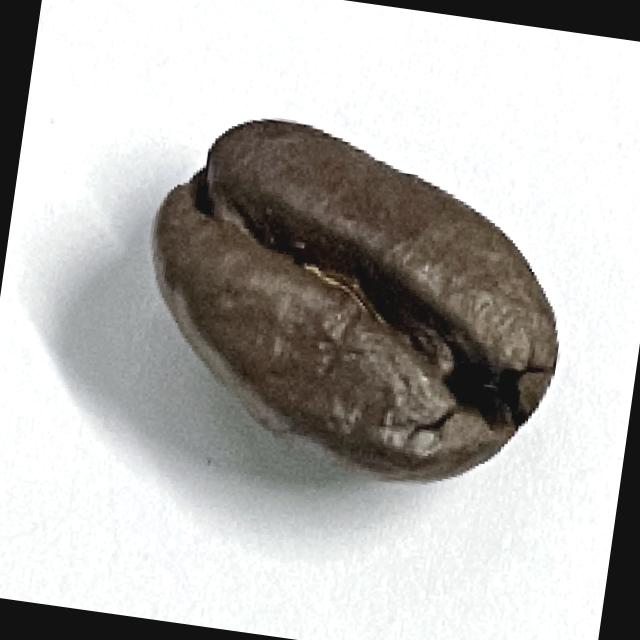bean: (124, 104, 585, 502)
